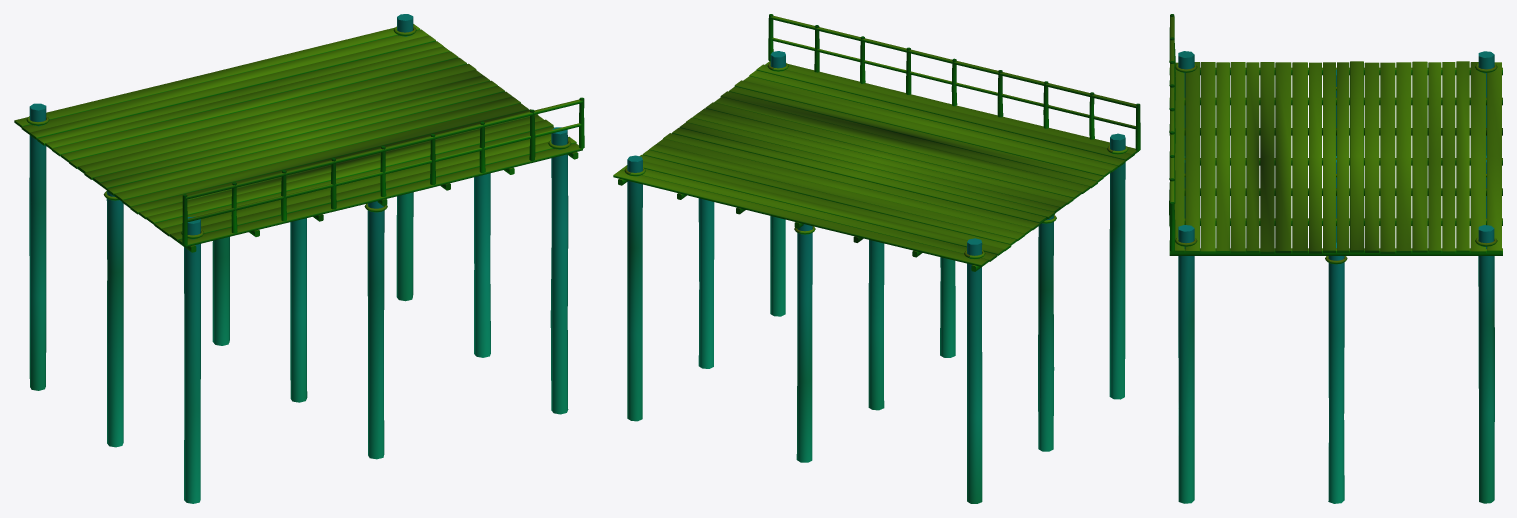
File: port_deck_8m_rail.glb
The picture shows the model from 3 angles, left to right: view 1: azimuth 30°, elevation 25°; view 2: azimuth 150°, elevation 25°; view 3: azimuth 270°, elevation 25°; orthographic projection. The views are drawn at different scales.
Visible parts, largest first — view 1: port_deck_8m_rail; view 2: port_deck_8m_rail; view 3: port_deck_8m_rail.
Boxes of the visible parts, x1,y1,x2,y2 form: port_deck_8m_rail: (14,14,584,503); port_deck_8m_rail: (613,14,1140,503); port_deck_8m_rail: (1169,14,1502,503).
Size of what is drawn, in the model's own units: 8.09 by 6.05 by 6.01.
